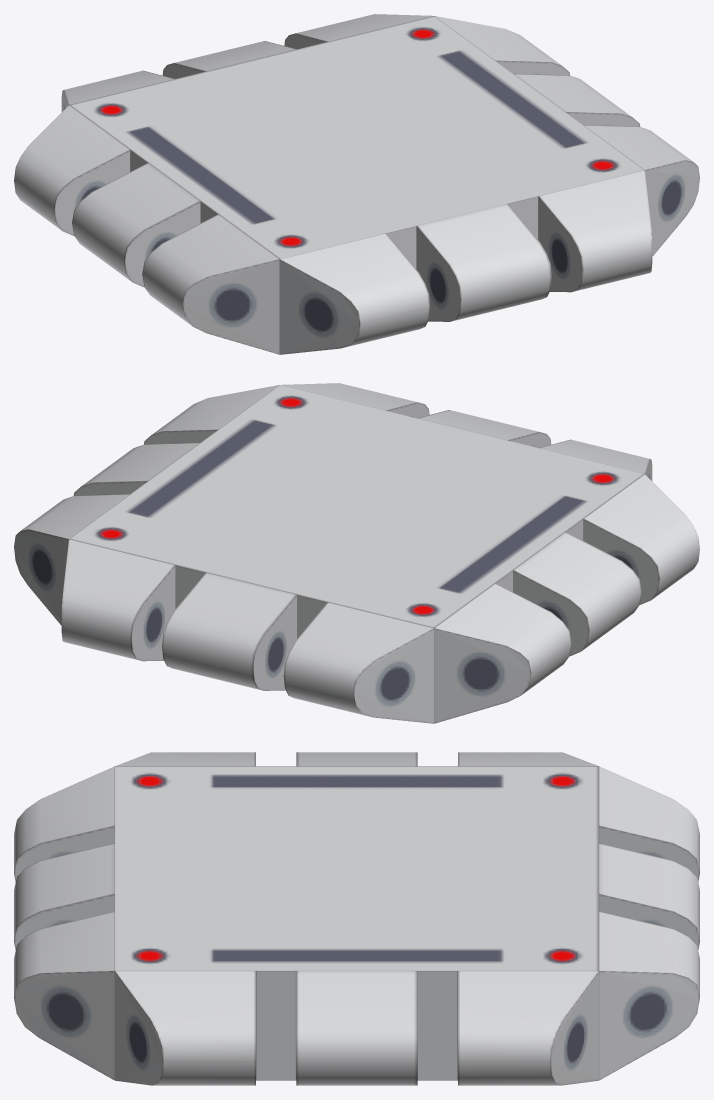
The model's file is Radar_Part_02.FBX.
3 renders of one model, top to bottom at view 1: azimuth 30°, elevation 25°; view 2: azimuth 150°, elevation 25°; view 3: azimuth 270°, elevation 25°, orthographic. The views are drawn at different scales.
Visible parts, largest first — view 1: Radar_Part_02; view 2: Radar_Part_02; view 3: Radar_Part_02.
Boxes of the visible parts, x1,y1,x2,y2 form: Radar_Part_02: [14, 14, 699, 354]; Radar_Part_02: [14, 383, 699, 723]; Radar_Part_02: [14, 752, 699, 1085].
Size of the model in its own units: 8.5 by 1.5 by 8.5.
